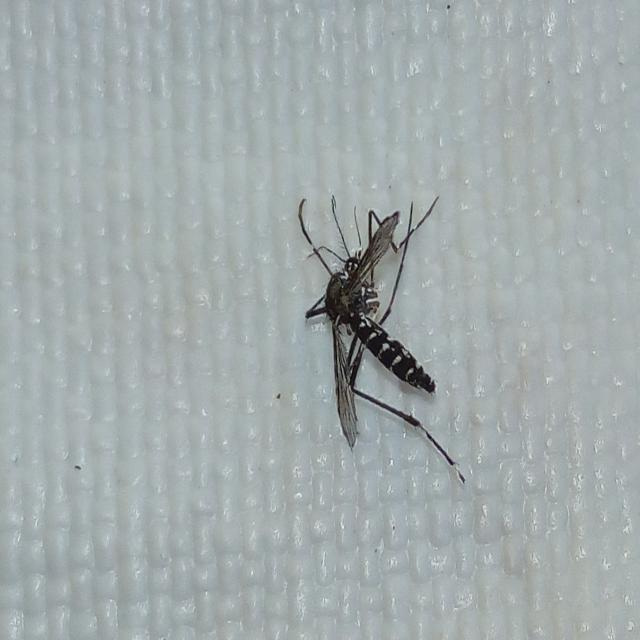albopictus: (286, 177, 470, 466)
